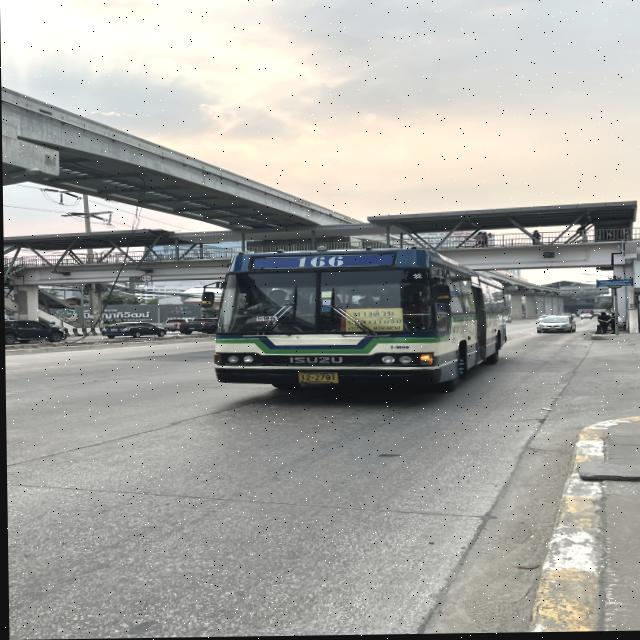BMTA-bus: (210, 248, 509, 396)
Bus-Line-Number: (290, 255, 350, 269)
Destination-Sign-Normal-Expressway: (346, 309, 403, 334)
